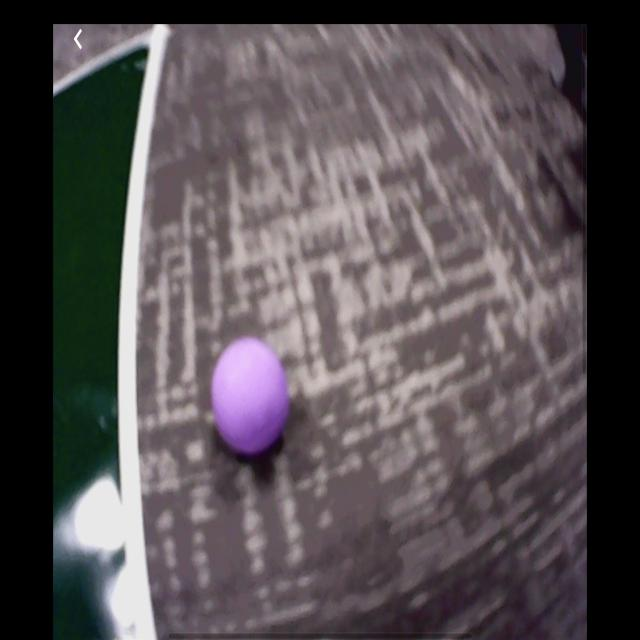ball: (211, 336, 291, 459)
